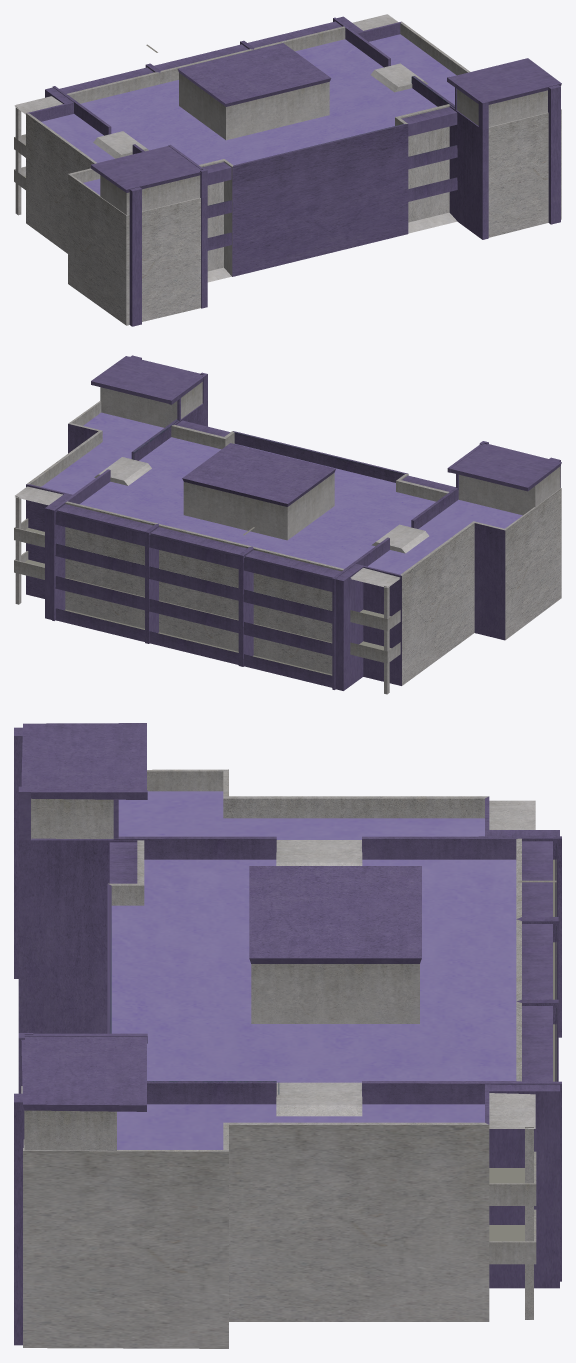
Rendered from ORB_6_Center_Detail_3.fbx.
3 views of the same model, one above another, from view 1: azimuth 30°, elevation 25°; view 2: azimuth 150°, elevation 25°; view 3: azimuth 270°, elevation 25° (orthographic). The views are drawn at different scales.
Visible parts, largest first — view 1: ORB_6_Center_Detail_3; view 2: ORB_6_Center_Detail_3; view 3: ORB_6_Center_Detail_3.
Boxes of the visible parts, x1=… form: ORB_6_Center_Detail_3: x1=14, y1=14, x2=561, y2=326; ORB_6_Center_Detail_3: x1=14, y1=355, x2=561, y2=694; ORB_6_Center_Detail_3: x1=14, y1=723, x2=561, y2=1348.
Bounding box in the file's own units: 4197 × 1262 × 2543.
